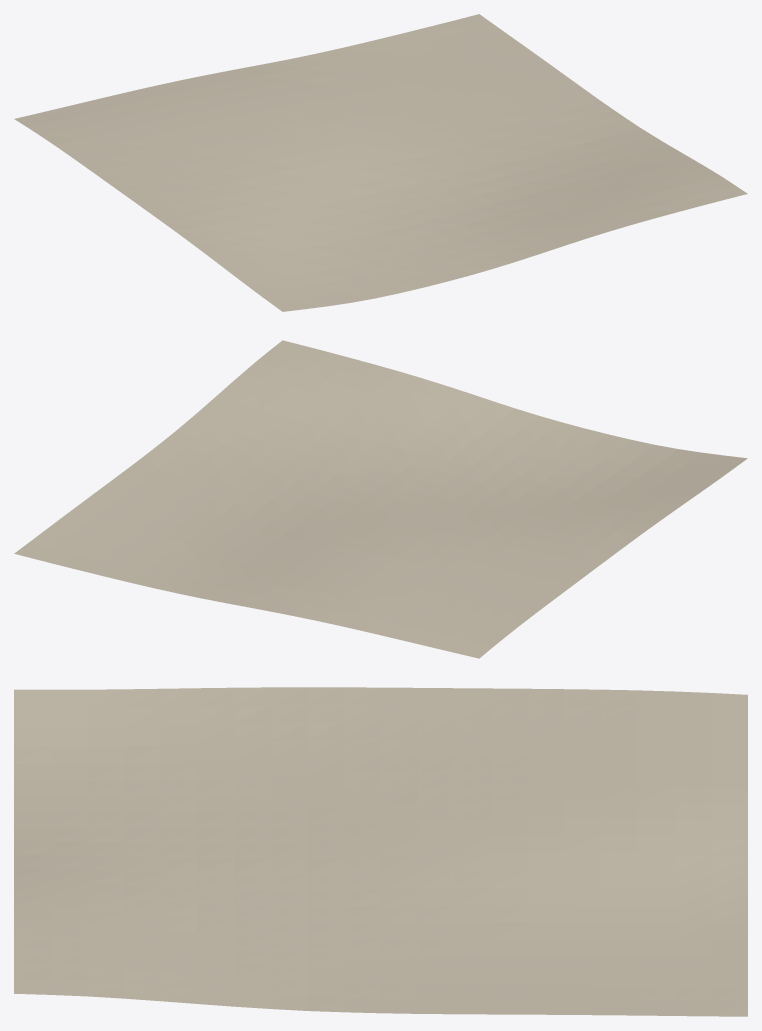
The model's file is bolak_-26_7.glb.
The picture shows the model from 3 angles, top to bottom: view 1: azimuth 30°, elevation 25°; view 2: azimuth 150°, elevation 25°; view 3: azimuth 270°, elevation 25°; orthographic projection. The views are drawn at different scales.
Visible parts, largest first — view 1: Yer_Tuproq-col; view 2: Yer_Tuproq-col; view 3: Yer_Tuproq-col.
Part boxes in pixels (box(x1,y1,x2,y2)): Yer_Tuproq-col: box(14, 14, 747, 311); Yer_Tuproq-col: box(14, 340, 747, 658); Yer_Tuproq-col: box(14, 687, 747, 1016).
Bounding box in the file's own units: 400 × 14.36 × 400.
